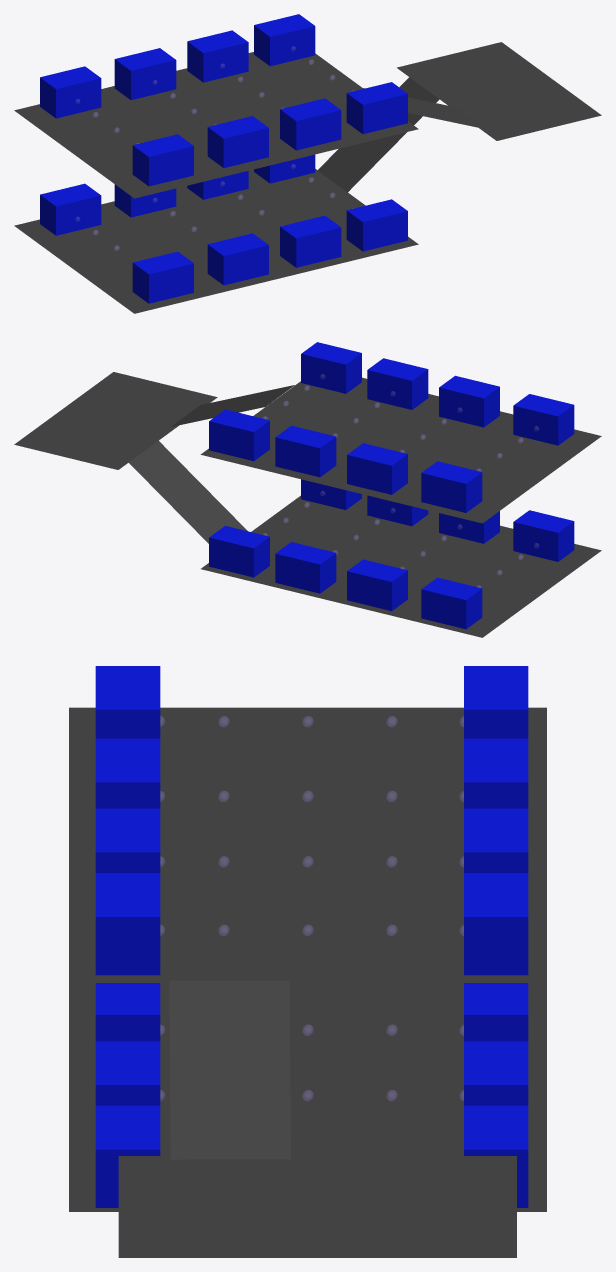
The model's file is mall.glb.
3 views of the same model, one above another, from view 1: azimuth 30°, elevation 25°; view 2: azimuth 150°, elevation 25°; view 3: azimuth 270°, elevation 25° (orthographic). The views are drawn at different scales.
Parts seen in each view (by area): view 1: ground.001, ground, ground.003, ground.002, shop.014, shop.011, shop.001, shop.008, shop.015, shop, shop.002, shop.010 (+9 smaller); view 2: ground.001, ground, ground.003, ground.002, shop.007, shop.013, shop.009, shop.011, shop.005, shop.015, shop.003, shop.010 (+9 smaller); view 3: ground.001, ground, ground.003, ground.004, shop.008, shop.012, shop.011, shop.015, shop.010, shop.014, shop, shop.001 (+6 smaller).
Part boxes in pixels (bbox=[...]): ground.001: bbox=[14, 52, 418, 198]; ground: bbox=[14, 169, 418, 313]; ground.003: bbox=[397, 42, 601, 140]; ground.002: bbox=[317, 77, 439, 192]; shop.014: bbox=[114, 48, 176, 100]; shop.011: bbox=[132, 134, 193, 186]; shop.001: bbox=[280, 215, 341, 267]; shop.008: bbox=[346, 82, 407, 134]; shop.015: bbox=[40, 66, 101, 118]; shop: bbox=[346, 199, 407, 251]; shop.002: bbox=[207, 233, 268, 285]; shop.010: bbox=[207, 116, 268, 167]; ground.001: bbox=[200, 377, 601, 523]; ground: bbox=[201, 494, 601, 637]; ground.003: bbox=[14, 372, 217, 469]; ground.002: bbox=[129, 440, 247, 543]; shop.007: bbox=[421, 577, 482, 629]; shop.013: bbox=[275, 425, 336, 477]; shop.009: bbox=[367, 358, 428, 409]; shop.011: bbox=[513, 394, 574, 445]; shop.005: bbox=[275, 542, 336, 593]; shop.015: bbox=[421, 461, 482, 512]; shop.003: bbox=[513, 510, 574, 561]; shop.010: bbox=[439, 375, 499, 427]; ground.001: bbox=[69, 707, 546, 982]; ground: bbox=[69, 983, 546, 1211]; ground.003: bbox=[118, 1156, 516, 1257]; ground.004: bbox=[169, 980, 290, 1159]; shop.008: bbox=[95, 873, 160, 975]; shop.012: bbox=[464, 873, 528, 975]; shop.011: bbox=[95, 666, 160, 738]; shop.015: bbox=[464, 666, 528, 738]; shop.010: bbox=[95, 738, 160, 808]; shop.014: bbox=[464, 738, 528, 808]; shop: bbox=[95, 1105, 160, 1207]; shop.001: bbox=[95, 1041, 160, 1105].
Bounding box in the file's own units: 193 × 56.66 × 83.78.
